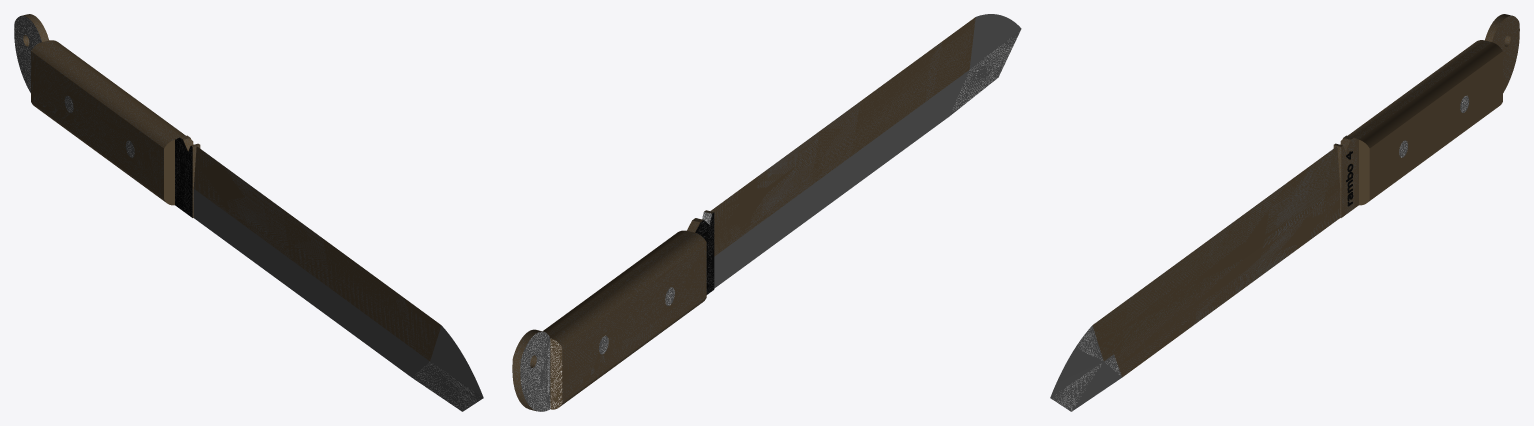
File: model_align.obj
The picture shows the model from 3 angles, left to right: view 1: azimuth 30°, elevation 25°; view 2: azimuth 150°, elevation 25°; view 3: azimuth 330°, elevation 25°; orthographic projection. The views are drawn at different scales.
Visible parts, largest first — view 1: mesh37_mesh37-geometry; view 2: mesh37_mesh37-geometry; view 3: mesh37_mesh37-geometry.
Boxes of the visible parts, x1=… form: mesh37_mesh37-geometry: x1=14, y1=14, x2=483, y2=411; mesh37_mesh37-geometry: x1=512, y1=14, x2=1021, y2=411; mesh37_mesh37-geometry: x1=1050, y1=14, x2=1519, y2=411.
Bounding box in the file's own units: 0.00737 × 0.0192 × 0.2037.
